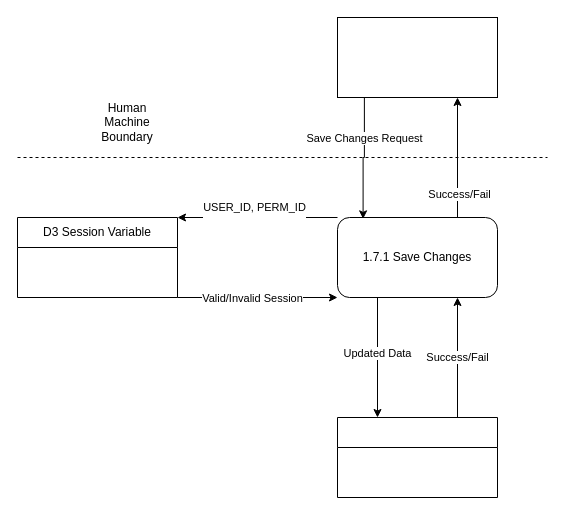
The diagram is 566 pixels wide and 515 high, and some of its shapes have lost their labels. Each missing label, with the box of its shape:
D1 Application Database: (336, 416, 498, 498)
User: (336, 16, 498, 98)
